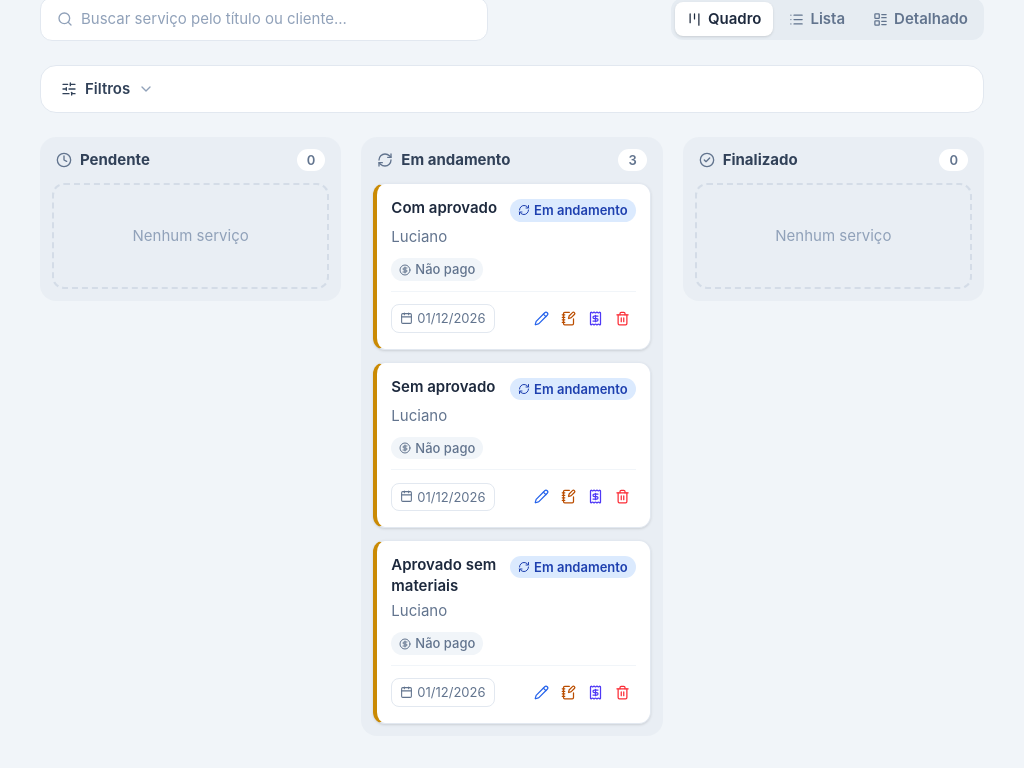
Test: excluir serviço com orçamento aprovado › aprovado sem materiais (nada descontado) exclui direto, sem perguntar do estoque
(page scrolled)
Expected: the text "Aprovado sem materiais" is shown, [391,555,502,596]
Step 1. Click the 3rd button named "Excluir" → (622, 692), box [609,679,636,706]
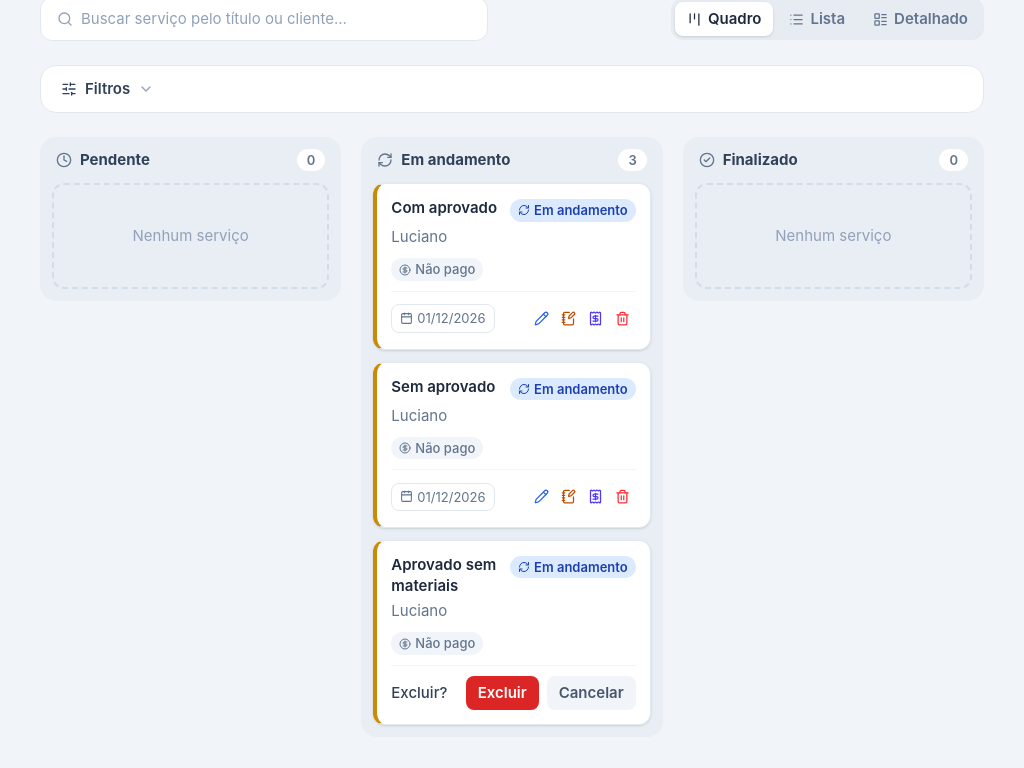
Step 2. Click the button "Excluir" → (502, 693), box [466,676,539,710]
(page scrolled)
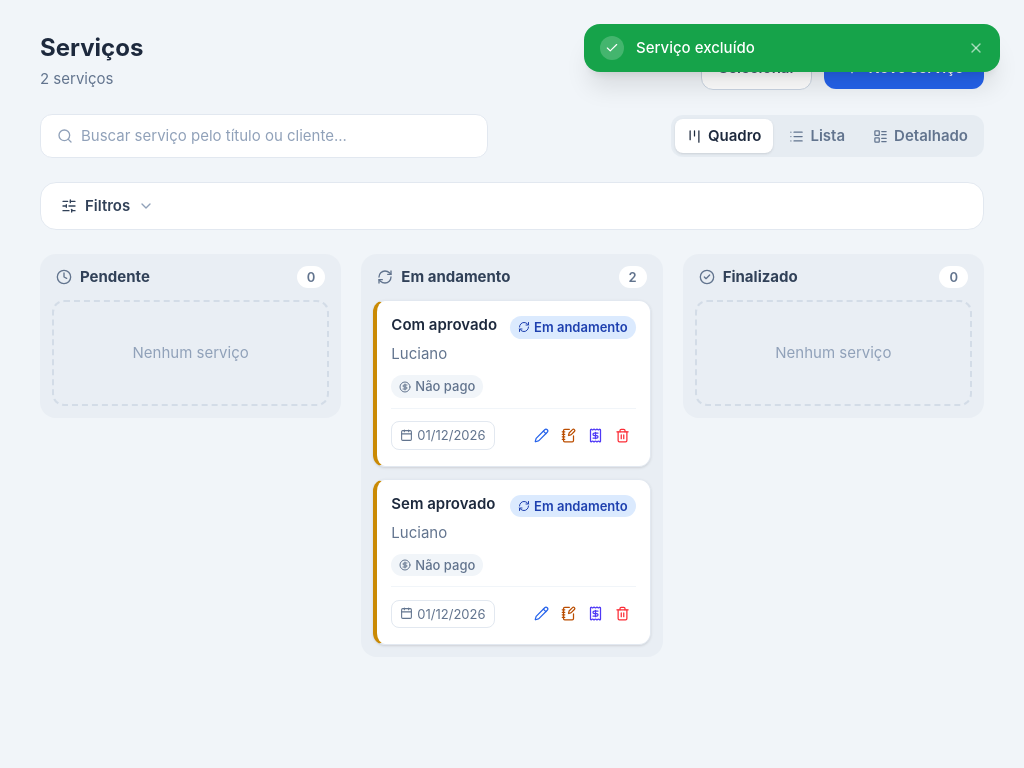
Expected: the text "Serviço excluído" is shown, [636,38,755,57]
